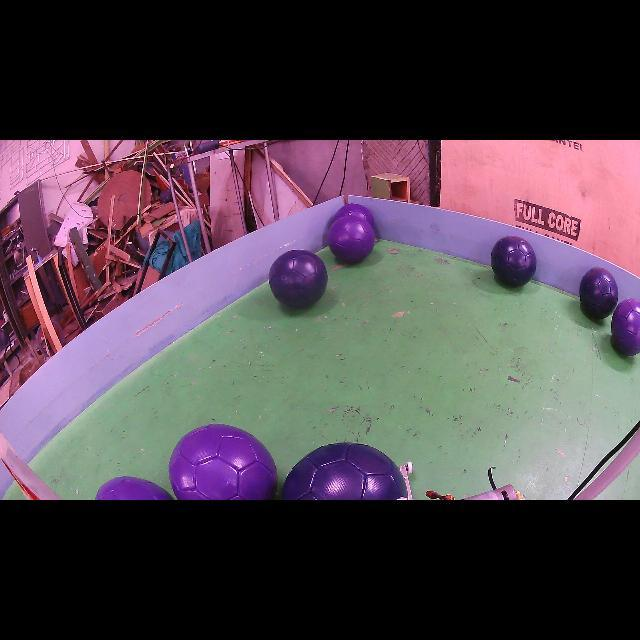B: (282, 442, 410, 500), (269, 250, 328, 308), (491, 236, 536, 286), (580, 268, 619, 319)
P: (169, 424, 278, 500), (328, 215, 375, 262), (96, 476, 174, 500), (611, 299, 640, 356), (334, 204, 375, 229)
